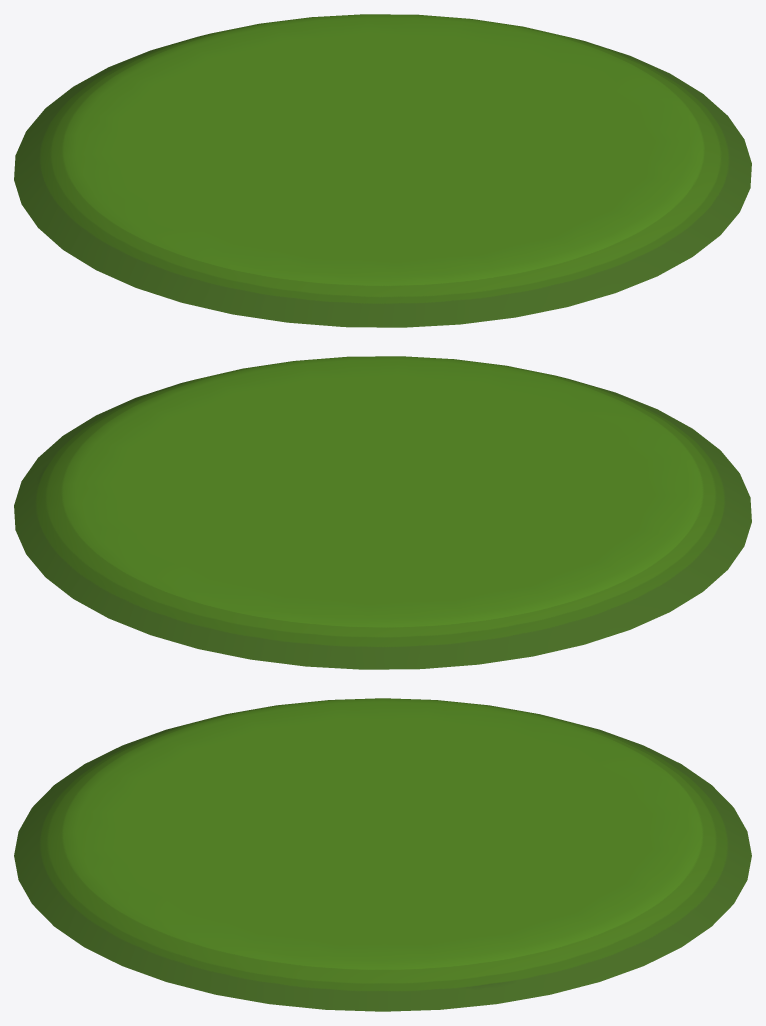
Rendered from Ground.FBX.
The picture shows the model from 3 angles, top to bottom: view 1: azimuth 30°, elevation 25°; view 2: azimuth 150°, elevation 25°; view 3: azimuth 270°, elevation 25°; orthographic projection.
Visible parts, largest first — view 1: Ground; view 2: Ground; view 3: Ground.
Part boxes in pixels (x1=…): Ground: x1=14, y1=14, x2=751, y2=327; Ground: x1=14, y1=356, x2=751, y2=669; Ground: x1=14, y1=698, x2=751, y2=1011.
Bounding box in the file's own units: 1652 × 59.78 × 1652.
